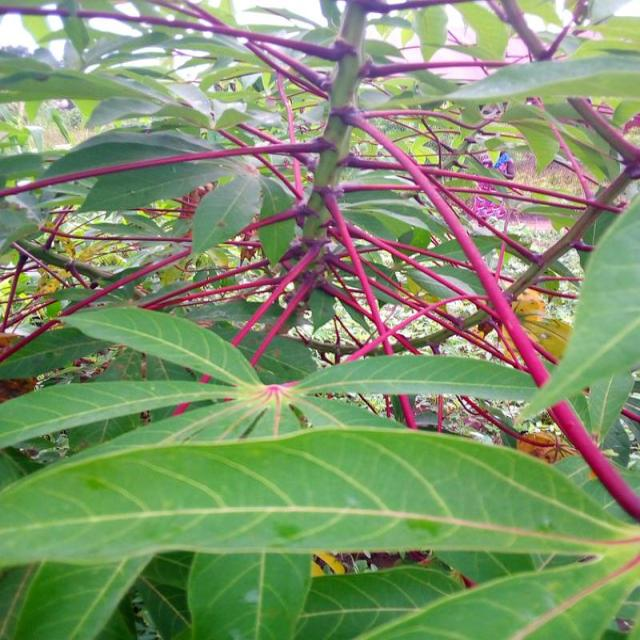cassava leaf: (1, 1, 638, 638), (1, 422, 638, 638)
